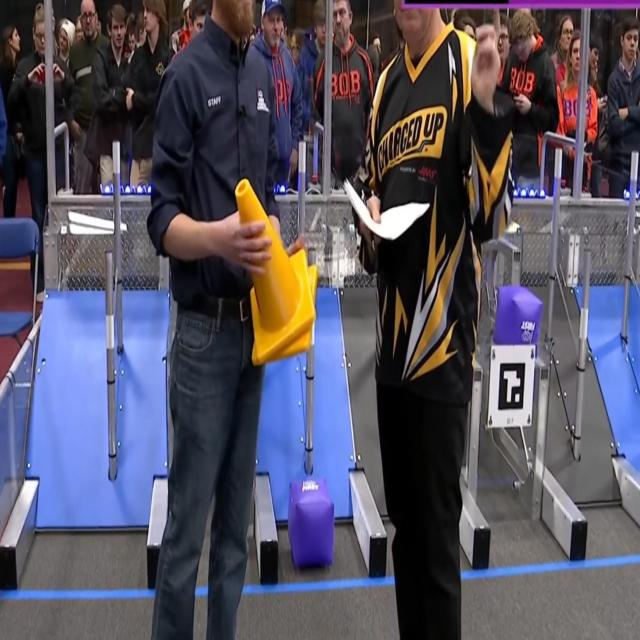frc_cone: (234, 176, 318, 360)
frc_cube: (288, 478, 335, 568), (494, 283, 541, 352)
